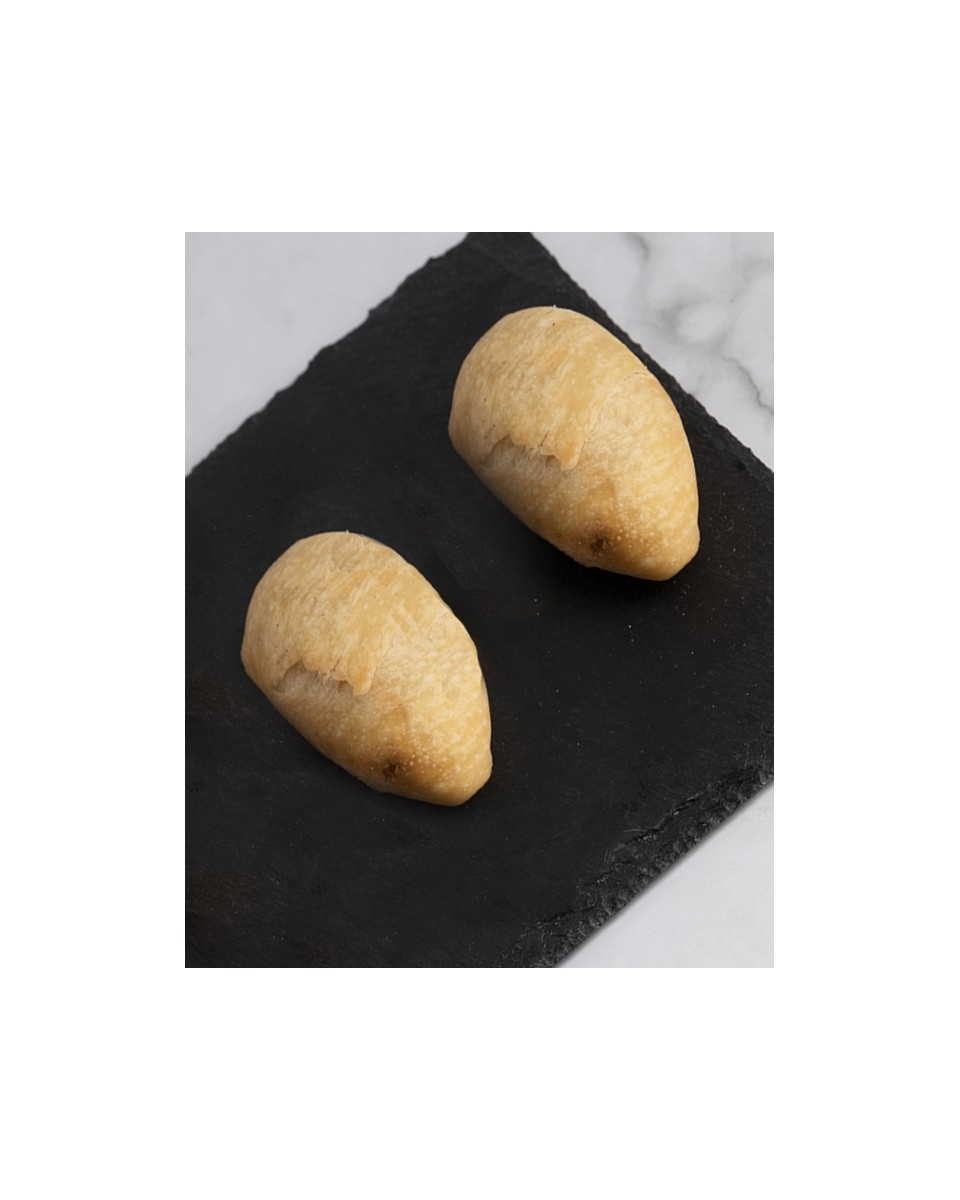pisang_molen: (234, 529, 493, 808), (443, 305, 700, 582)
